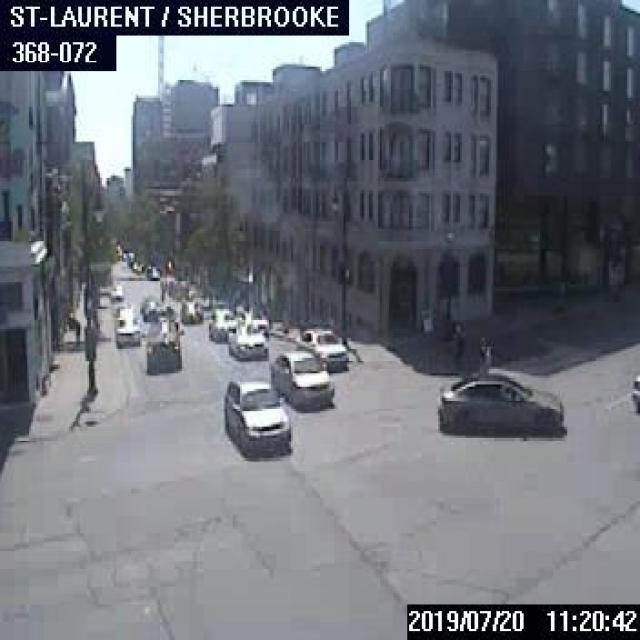pedestrian: (449, 313, 462, 369), (476, 336, 493, 371)
vehicle: (434, 366, 564, 436), (224, 377, 291, 450), (268, 348, 332, 408), (294, 327, 346, 370), (140, 320, 183, 370), (225, 319, 267, 357), (206, 305, 238, 341), (114, 314, 139, 347), (243, 305, 267, 335), (179, 300, 202, 322), (115, 301, 136, 322), (629, 371, 638, 411), (141, 298, 157, 320), (109, 282, 124, 298), (146, 263, 158, 277)
